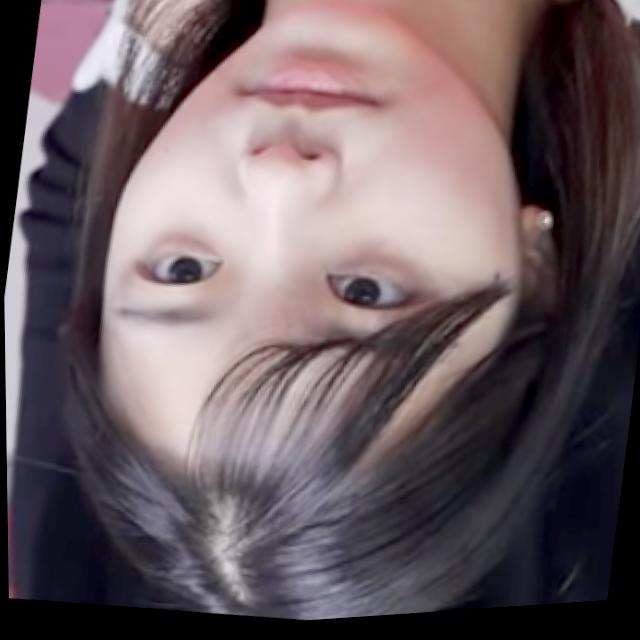face: (78, 0, 542, 498)
